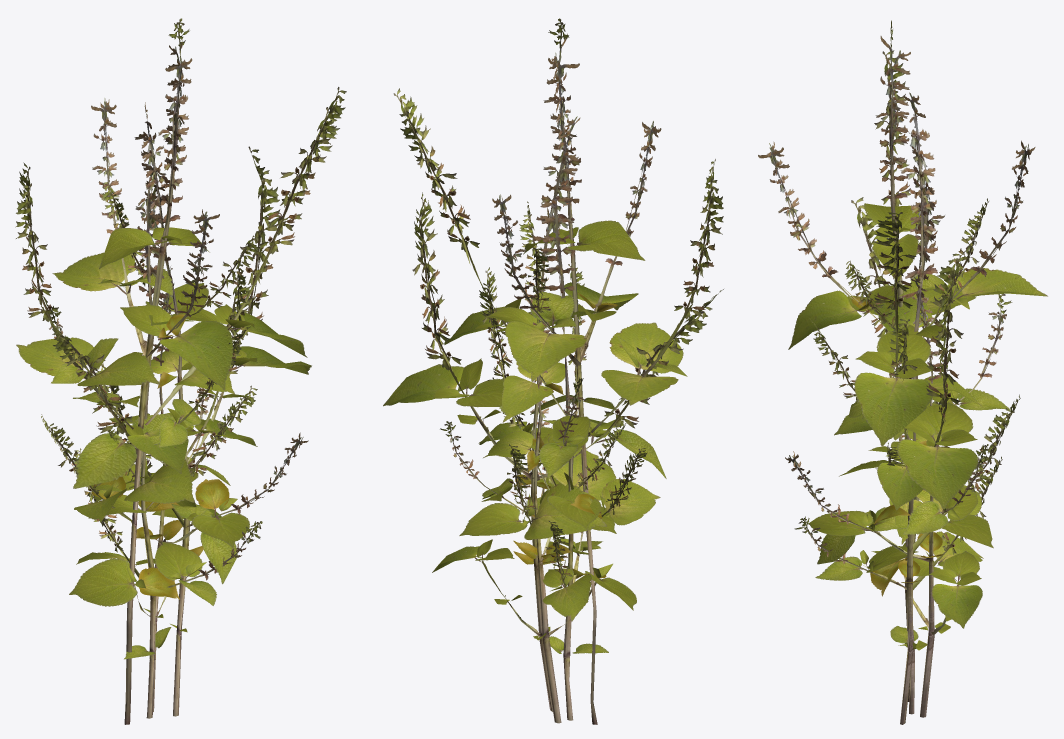
File: arbrisseau.glb
3 renders of one model, left to right at view 1: azimuth 30°, elevation 25°; view 2: azimuth 150°, elevation 25°; view 3: azimuth 270°, elevation 25°, orthographic. The views are drawn at different scales.
Parts seen in each view (by area): view 1: shrub_03_a, shrub_03_b, shrub_03_c, shrub_03_d; view 2: shrub_03_a, shrub_03_b, shrub_03_c, shrub_03_d; view 3: shrub_03_a, shrub_03_b, shrub_03_c, shrub_03_d.
Part boxes in pixels (x1,y1,x2,y2): shrub_03_a: [15, 18, 346, 724]; shrub_03_b: [47, 102, 311, 716]; shrub_03_c: [47, 175, 262, 718]; shrub_03_d: [69, 266, 237, 711]; shrub_03_a: [393, 18, 723, 724]; shrub_03_b: [383, 116, 723, 711]; shrub_03_c: [478, 199, 616, 720]; shrub_03_d: [432, 277, 636, 723]; shrub_03_a: [758, 20, 1047, 701]; shrub_03_b: [785, 92, 1020, 724]; shrub_03_c: [794, 181, 1012, 714]; shrub_03_d: [817, 276, 988, 717].
Size of the model in its own units: 0.2006 by 0.4028 by 0.1512.
Materials: 1 (1 with a texture image).
